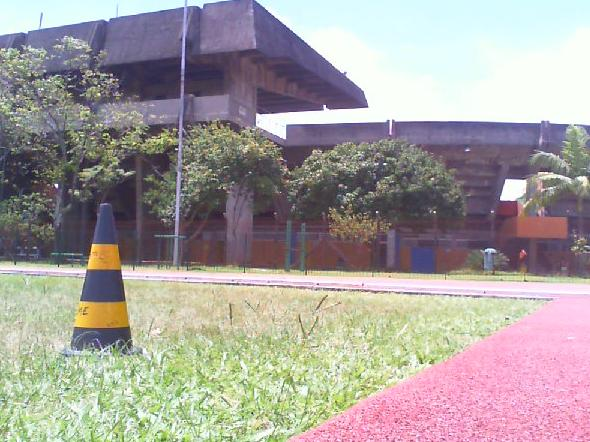0 cone: (62, 204, 142, 356)
